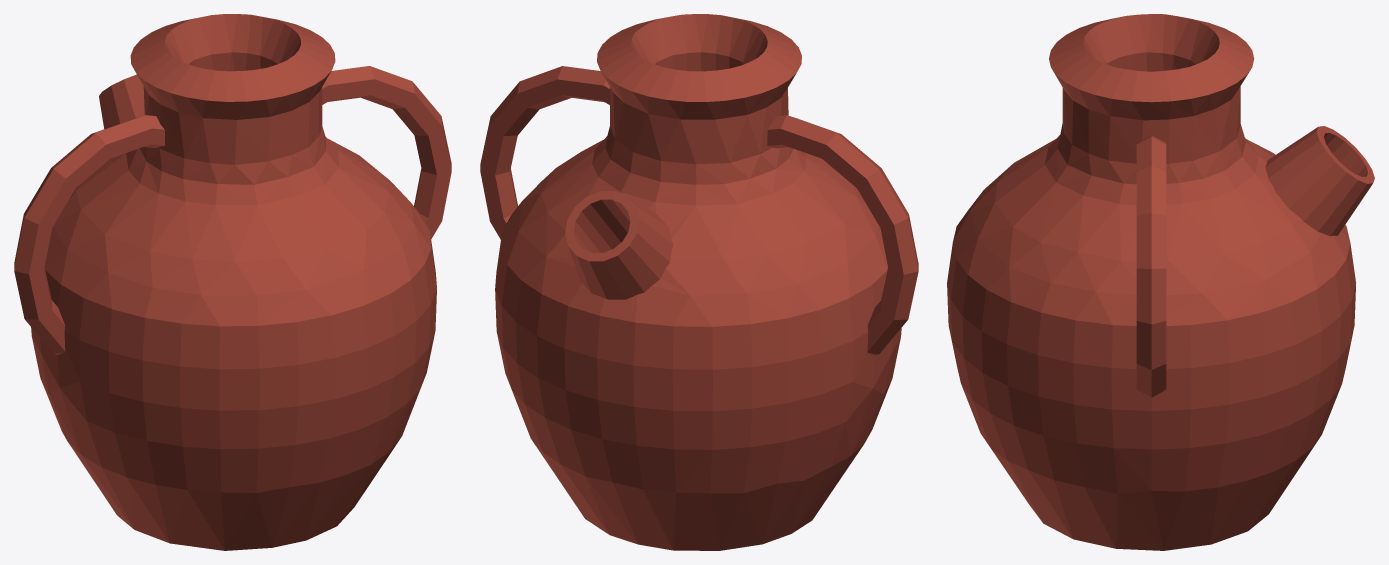
Rendered from Pottery 5_3.fbx.
The picture shows the model from 3 angles, left to right: view 1: azimuth 30°, elevation 25°; view 2: azimuth 150°, elevation 25°; view 3: azimuth 270°, elevation 25°; orthographic projection.
Parts seen in each view (by area): view 1: Pottery 5_3; view 2: Pottery 5_3; view 3: Pottery 5_3.
Part boxes in pixels (<box>): Pottery 5_3: <box>14,14,451,550</box>; Pottery 5_3: <box>480,14,918,550</box>; Pottery 5_3: <box>947,14,1374,550</box>.
Size of the model in its own units: 65.52 by 65.33 by 55.48.
